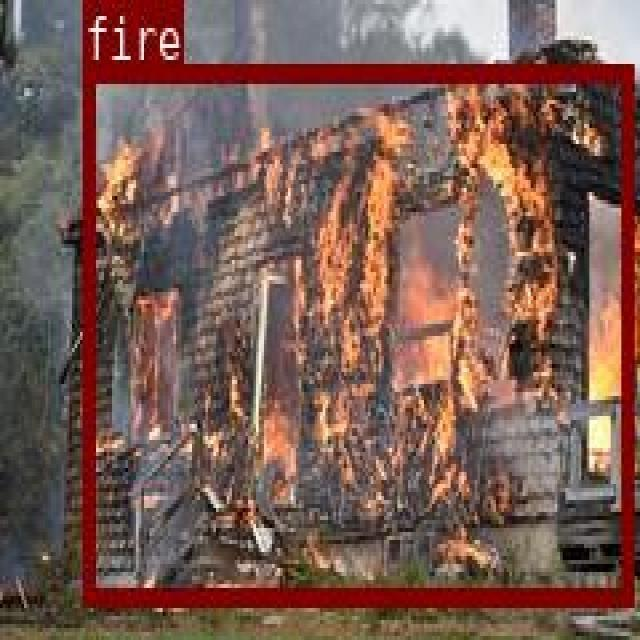fire: (82, 62, 631, 603)
